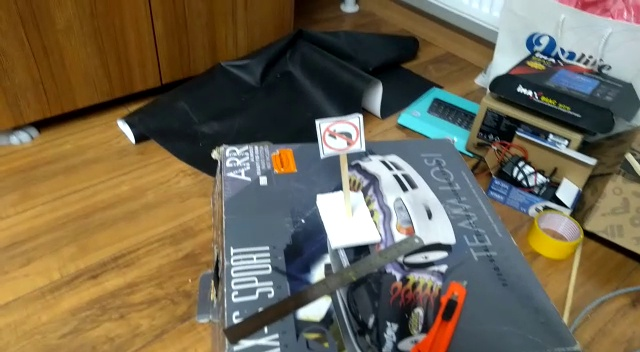sola_donulmez: (321, 116, 363, 156)
